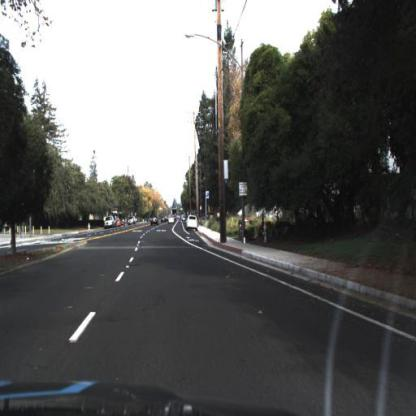car: (104, 216, 118, 230), (188, 215, 200, 229)
